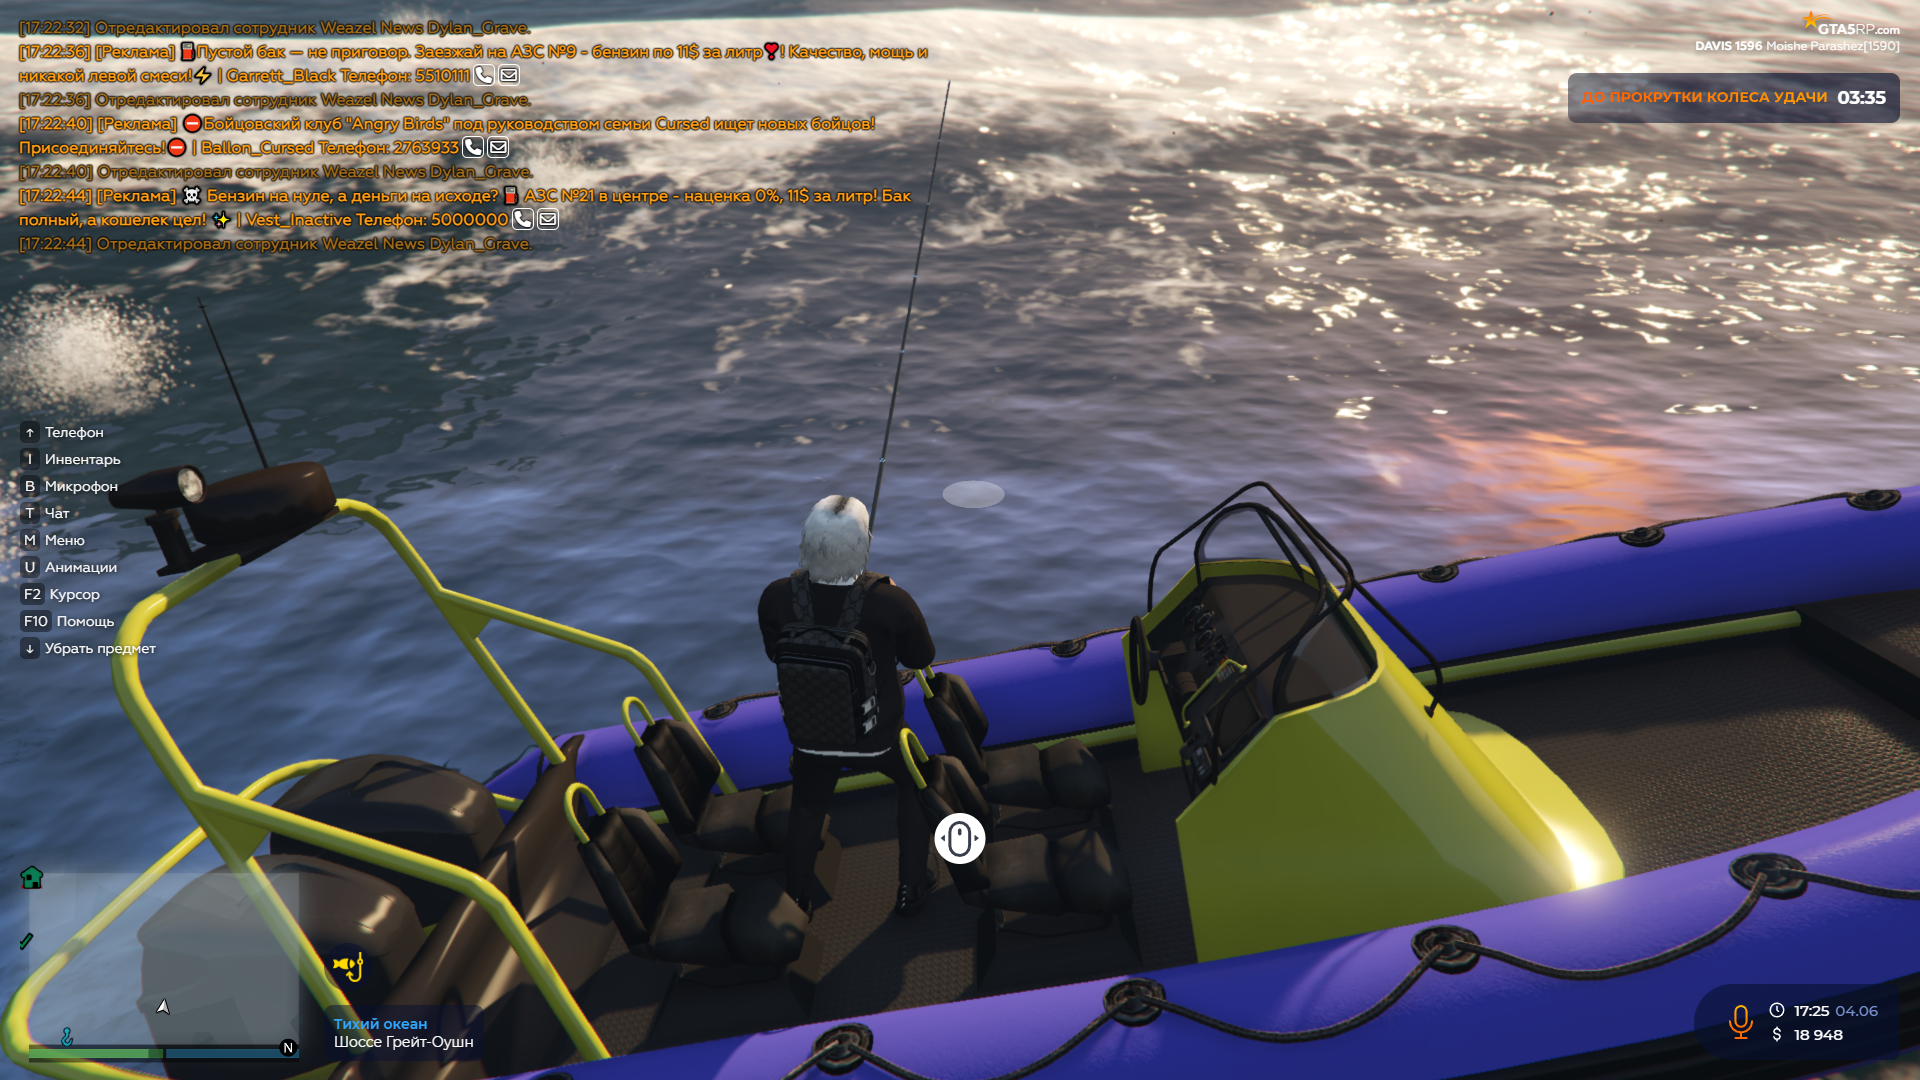circle: (938, 477, 1007, 513)
